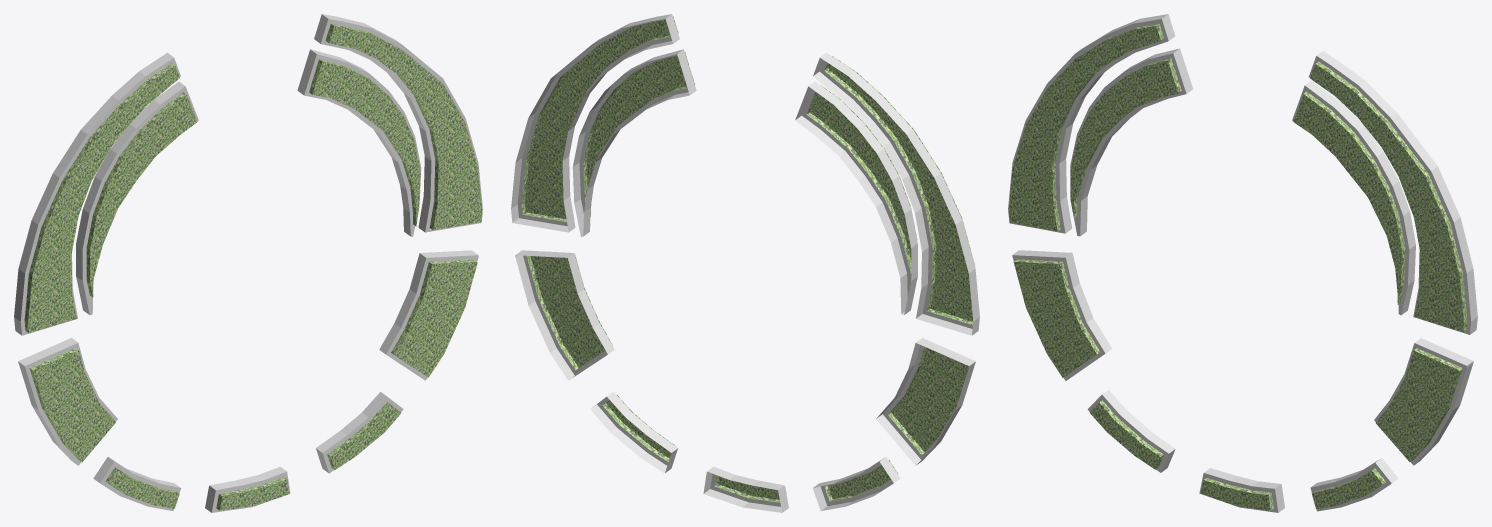
3 views of the same model, side by side, from view 1: azimuth 30°, elevation 25°; view 2: azimuth 150°, elevation 25°; view 3: azimuth 330°, elevation 25° (orthographic).
Parts seen in each view (by area): view 1: 柱体; view 2: 柱体; view 3: 柱体.
Boxes of the visible parts, bbox=[...] form: 柱体: bbox=[14, 14, 482, 512]; 柱体: bbox=[511, 14, 979, 512]; 柱体: bbox=[1008, 14, 1477, 512].
Size of the model in its own units: 4.81 by 4.67 by 0.1822.
2 materials, 1 textured.
